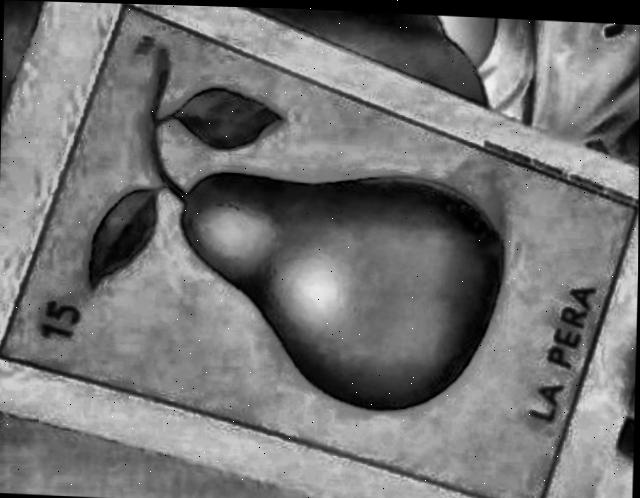La Pera: (0, 3, 634, 498)
